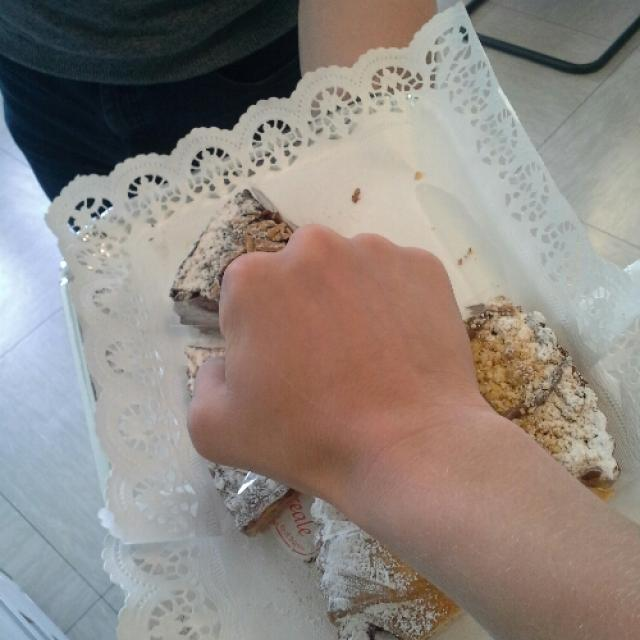rock: (191, 224, 470, 481)
